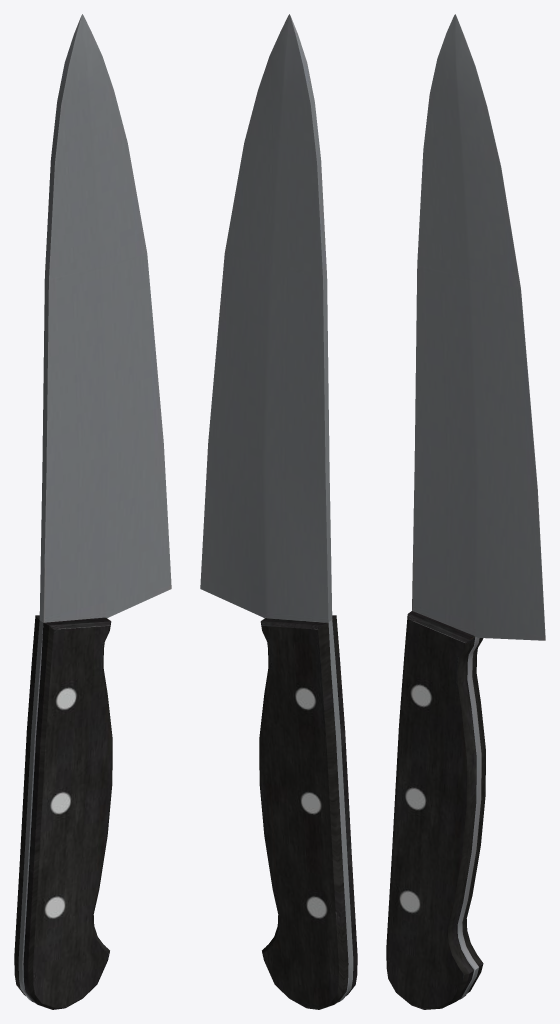
Rendered from mp_kitchenknife.glb.
3 renders of one model, left to right at view 1: azimuth 30°, elevation 25°; view 2: azimuth 150°, elevation 25°; view 3: azimuth 330°, elevation 25°, orthographic.
Visible parts, largest first — view 1: Cube; view 2: Cube; view 3: Cube.
Part boxes in pixels (bbox=[...]): Cube: bbox=[14, 14, 171, 1009]; Cube: bbox=[200, 14, 357, 1009]; Cube: bbox=[386, 14, 545, 1009].
Size of the model in its own units: 0.0546 by 0.34 by 0.0109.
1 material, 1 textured.
